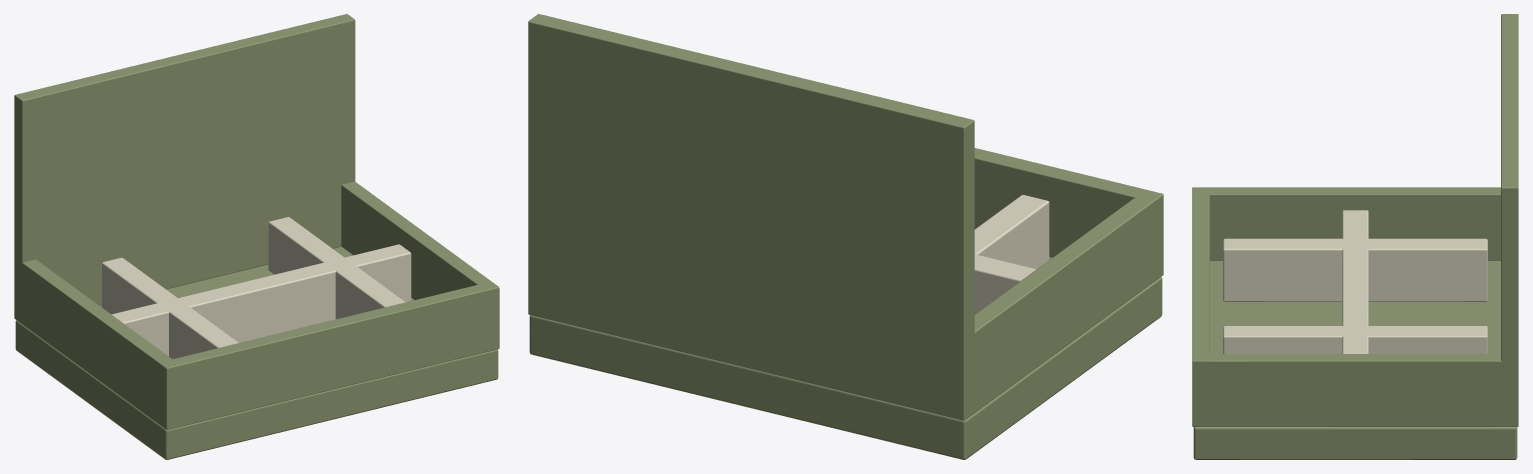
The model's file is backpacks-and-expedition-storage-medical-organizer-f8fc6341__21086.glb.
3 views of the same model, side by side, from view 1: azimuth 30°, elevation 25°; view 2: azimuth 150°, elevation 25°; view 3: azimuth 270°, elevation 25° (orthographic). The views are drawn at different scales.
Parts seen in each view (by area): view 1: medical-organizer, flap/canvas; view 2: flap/canvas, medical-organizer; view 3: medical-organizer, flap/canvas.
Part boxes in pixels (x1=…): medical-organizer: x1=15, y1=181, x2=499, y2=459; flap/canvas: x1=14, y1=14, x2=355, y2=318; flap/canvas: x1=528, y1=14, x2=974, y2=420; medical-organizer: x1=529, y1=148, x2=1163, y2=459; medical-organizer: x1=1192, y1=187, x2=1517, y2=459; flap/canvas: x1=1501, y1=14, x2=1518, y2=426.
Size of the model in its own units: 0.28 by 0.205 by 0.222.
